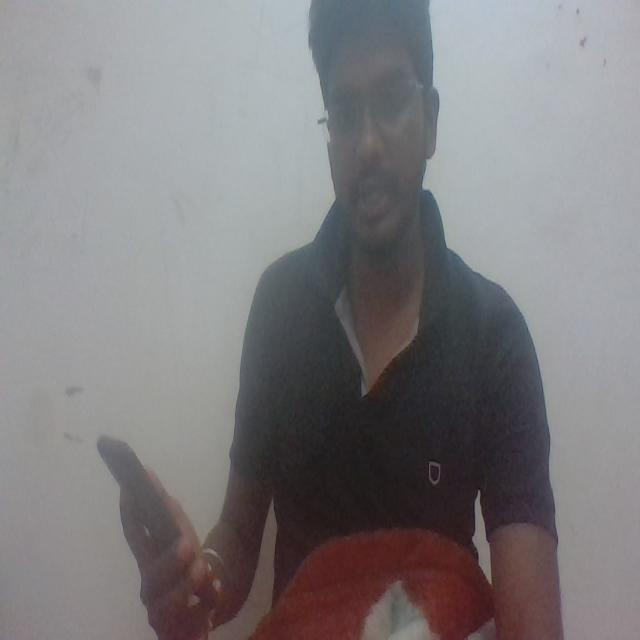Phone: (90, 428, 182, 556)
